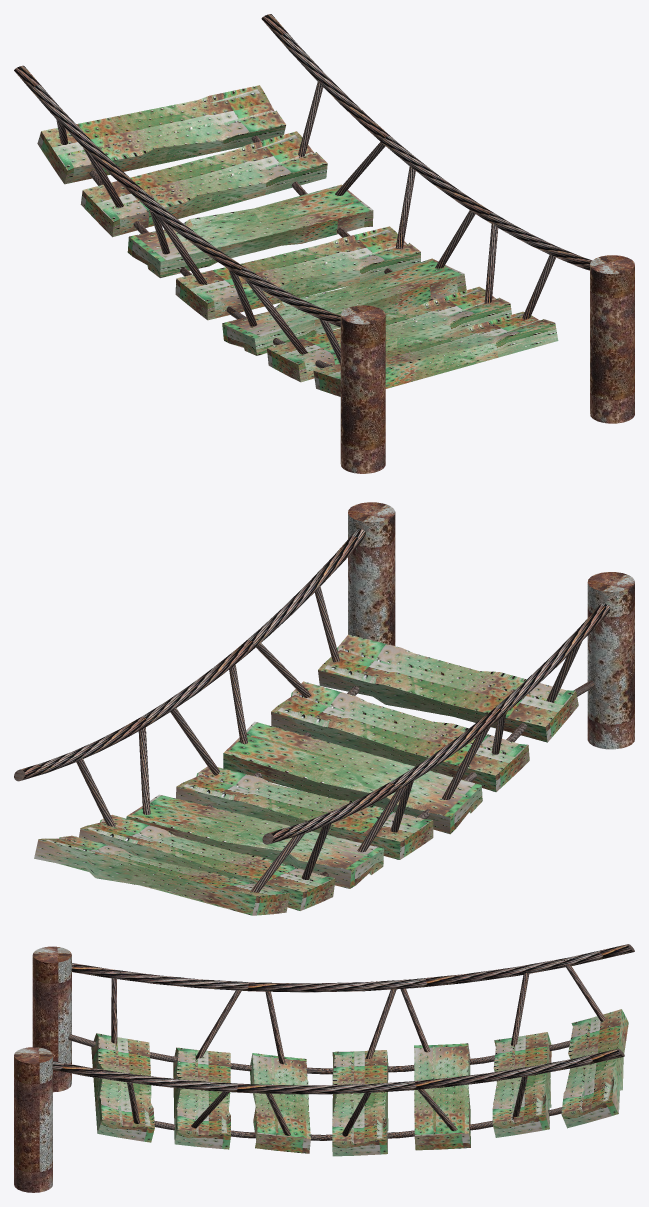
The model's file is MovingBridgeTest.fbx.
3 views of the same model, one above another, from view 1: azimuth 30°, elevation 25°; view 2: azimuth 150°, elevation 25°; view 3: azimuth 270°, elevation 25° (orthographic). The views are drawn at different scales.
Parts seen in each view (by area): view 1: polySurface2, pCylinder72, pCylinder71; view 2: polySurface2, pCylinder72, pCylinder71; view 3: polySurface2, pCylinder71, pCylinder72.
Boxes of the visible parts, x1,y1,x2,y2 form: polySurface2: (14,14,591,396); pCylinder72: (340,305,385,473); pCylinder71: (590,255,634,423); polySurface2: (14,528,610,915); pCylinder72: (587,572,634,749); pCylinder71: (348,502,395,645); polySurface2: (52,944,634,1156); pCylinder71: (14,1047,52,1192); pCylinder72: (32,946,71,1092).
Size of the model in its own units: 11.35 by 6.13 by 25.44.
3 materials, 3 textured.
